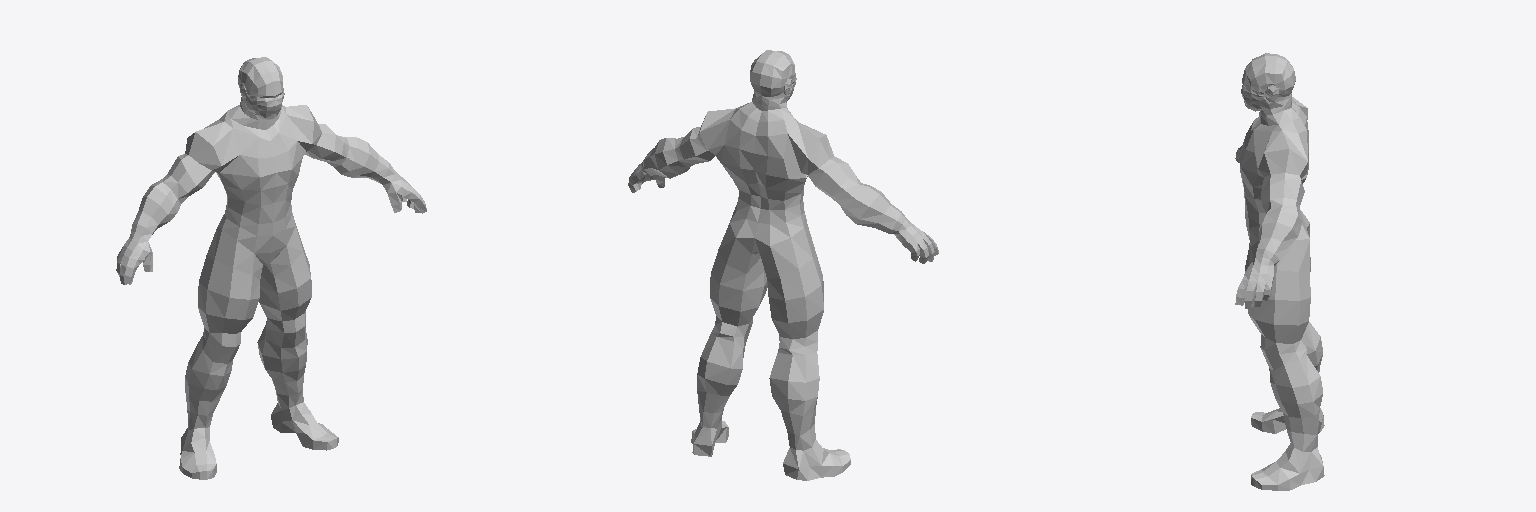
3 renders of one model, left to right at view 1: azimuth 30°, elevation 25°; view 2: azimuth 150°, elevation 25°; view 3: azimuth 270°, elevation 25°, orthographic.
Visible parts, largest first — view 1: XL_lowman_shoes.001; view 2: XL_lowman_shoes.001; view 3: XL_lowman_shoes.001.
Boxes of the visible parts, <box> form: XL_lowman_shoes.001: <box>116,57,426,479</box>; XL_lowman_shoes.001: <box>628,50,938,480</box>; XL_lowman_shoes.001: <box>1235,53,1324,490</box>.
Bounding box in the file's own units: 1.63 × 2.06 × 0.4161.